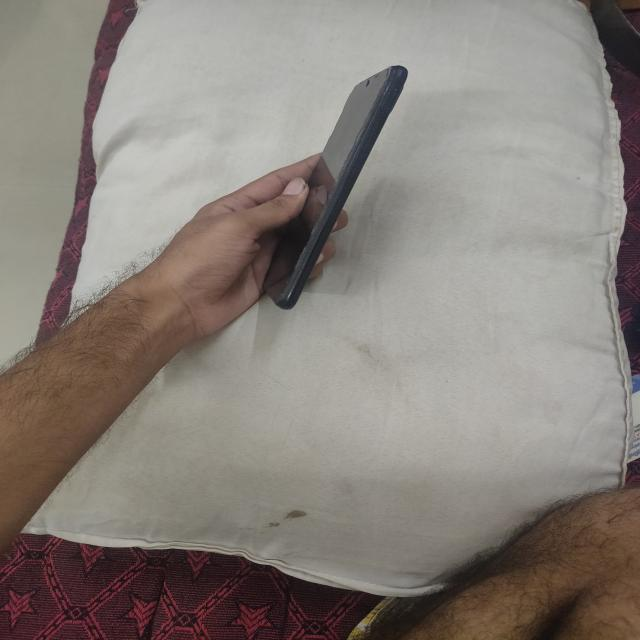Phone: (255, 61, 411, 314)
